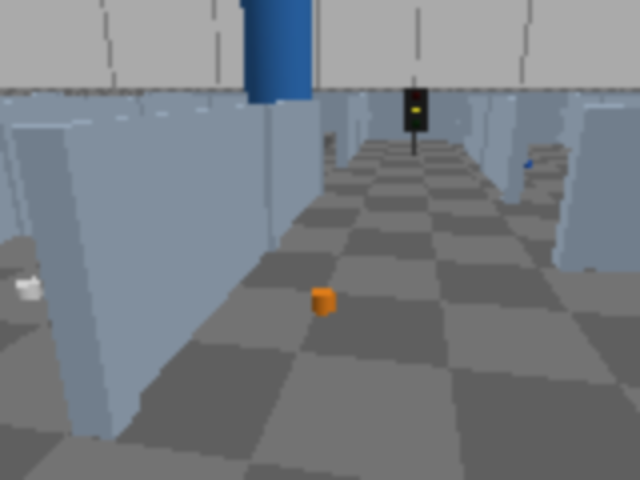puck: (16, 278, 41, 301), (312, 287, 333, 314)
